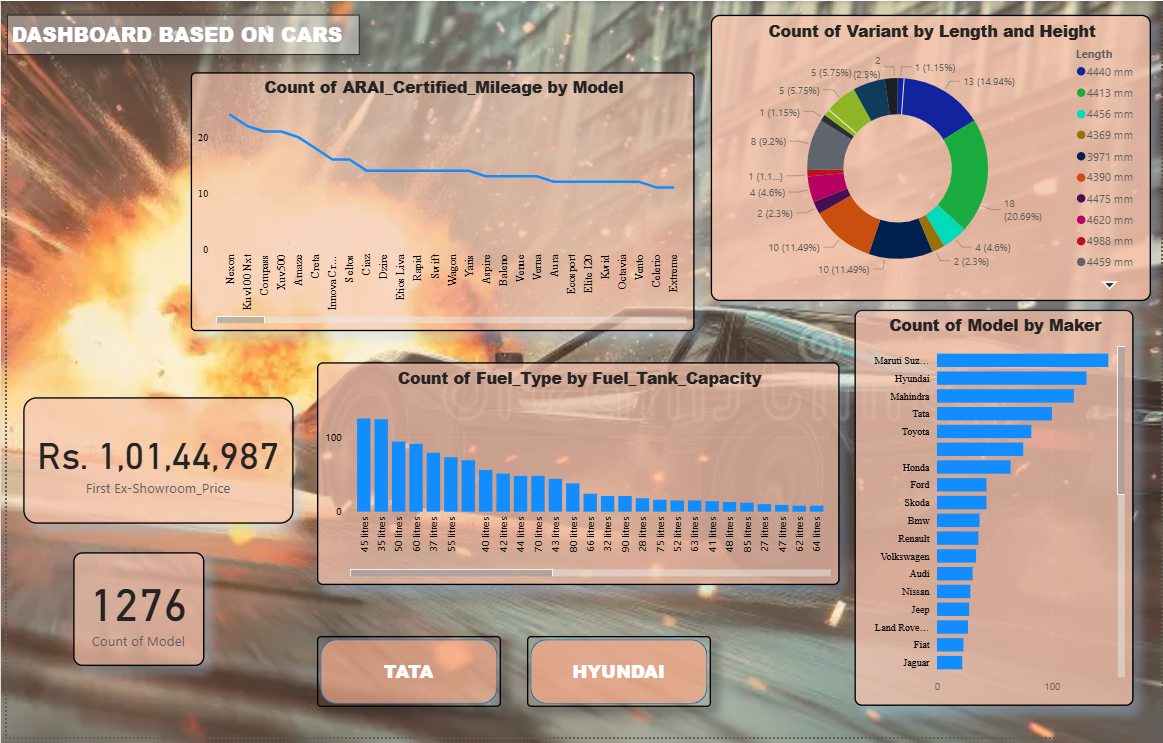

The dashboard page shown, as its layout file describes it:
{"tool":"powerbi","page":{"name":"COMMON ","canvas":[1380,880],"ordinal":0},"visuals":[{"type":"card","fields":{"Values":["CountNonNull(cars_ds_final.Model)"]},"box":[79.2,659.1,156.9,136],"z":0},{"type":"barChart","fields":{"Y":["CountNonNull(cars_ds_final.Model)"],"Category":["cars_ds_final.Maker"]},"box":[1013.3,369.2,333.3,473.8],"z":1000},{"type":"lineChart","fields":{"Category":["cars_ds_final.Model"],"Y":["CountNonNull(cars_ds_final.ARAI_Certified_Mileage)"]},"box":[219.7,85.2,602.3,309.4],"z":2000},{"type":"card","fields":{"Values":["Min(cars_ds_final.Ex-Showroom_Price)"]},"box":[19.4,473.8,322.8,151],"z":3000},{"type":"columnChart","fields":{"Category":["cars_ds_final.Fuel_Tank_Capacity"],"Y":["CountNonNull(cars_ds_final.Fuel_Type)"]},"box":[370.7,431.9,624.7,266],"z":4000},{"type":"donutChart","fields":{"Series":["cars_ds_final.Height"],"Category":["cars_ds_final.Length"],"Y":["CountNonNull(cars_ds_final.Variant)"]},"box":[841.4,16.4,526.1,342.3],"z":5000},{"type":"textbox","box":[0,16.4,421.5,47.8],"z":6000},{"type":"shape","box":[370.7,759.2,219.7,85.2],"z":7000},{"type":"shape","box":[621.7,759.2,219.7,85.2],"z":8000}]}

Visuals, with their boxes in screenshot pixels (x1, y1, x2, y2), scaled from the page's 1380x880 canvas onto the 1163x743 screenshot:
card - CountNonNull(cars_ds_final.Model): BBox(67, 556, 199, 671)
barChart - CountNonNull(cars_ds_final.Model) x cars_ds_final.Maker: BBox(854, 312, 1135, 712)
lineChart - cars_ds_final.Model x CountNonNull(cars_ds_final.ARAI_Certified_Mileage): BBox(185, 72, 693, 333)
card - Min(cars_ds_final.Ex-Showroom_Price): BBox(16, 400, 288, 528)
columnChart - cars_ds_final.Fuel_Tank_Capacity x CountNonNull(cars_ds_final.Fuel_Type): BBox(312, 365, 839, 589)
donutChart - cars_ds_final.Height x cars_ds_final.Length: BBox(709, 14, 1152, 303)
textbox: BBox(0, 14, 355, 54)
shape: BBox(312, 641, 498, 713)
shape: BBox(524, 641, 709, 713)
